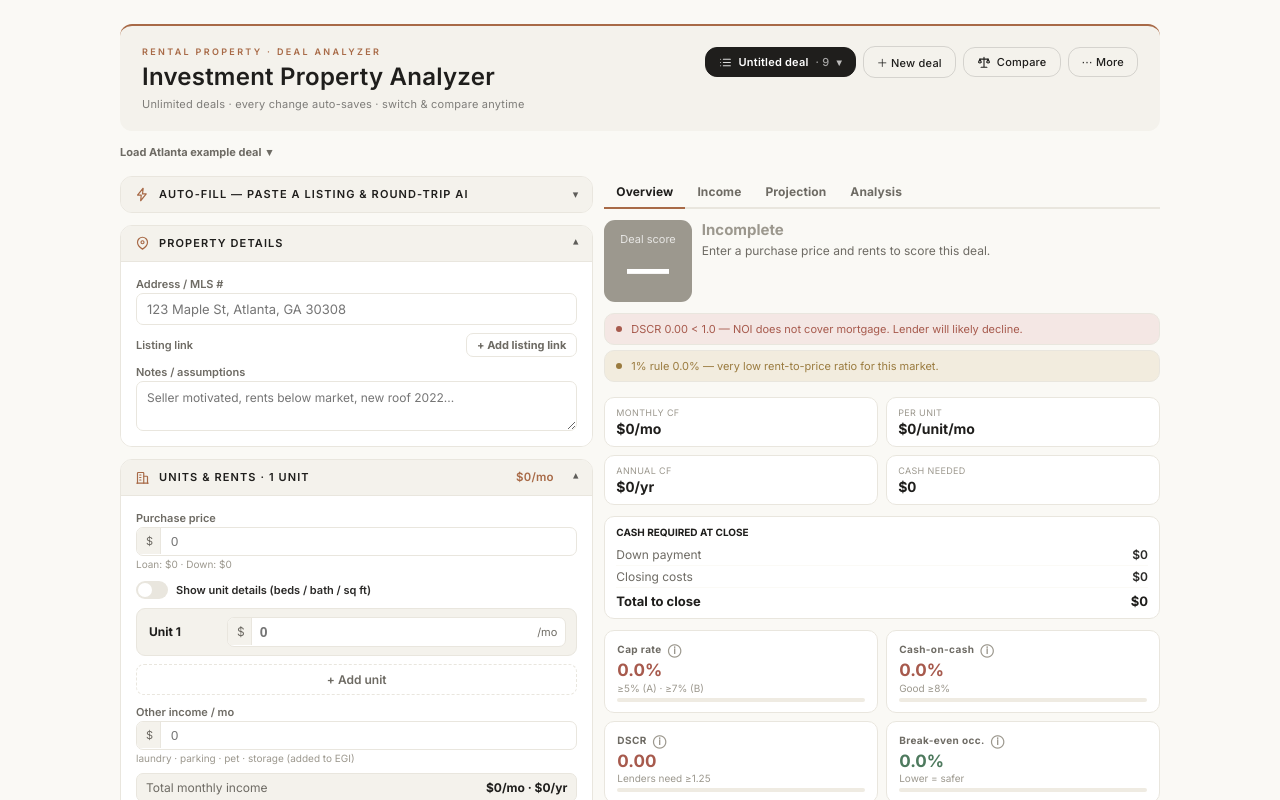
Test: editing the address autosaves through the store subscriber
Type "999 Verify Ave" into the field with placeholder "123 Maple St, Atlanta, GA 30308".
click(357, 309); type("999 Verify Ave")  # box [136,293,577,325]
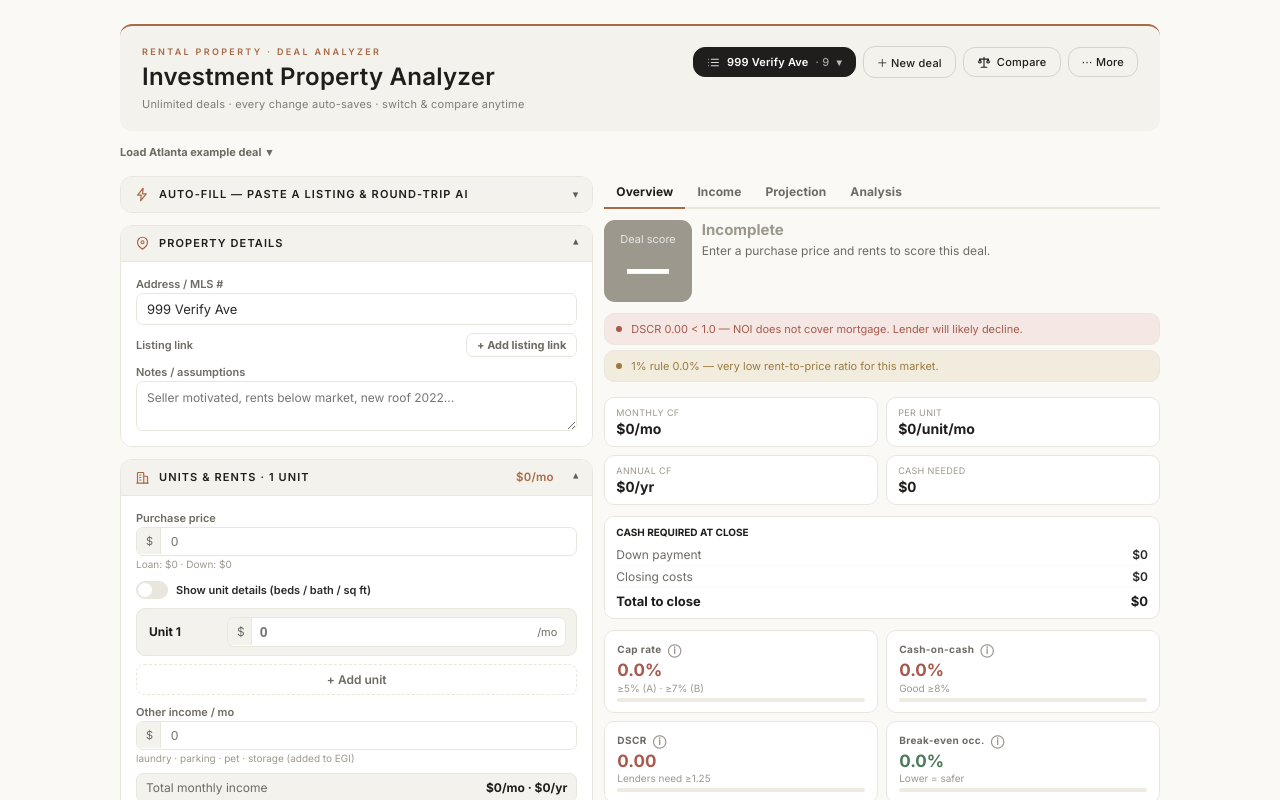
Check: the text "999 Verify Ave" is shown, box [727,55,809,69]
